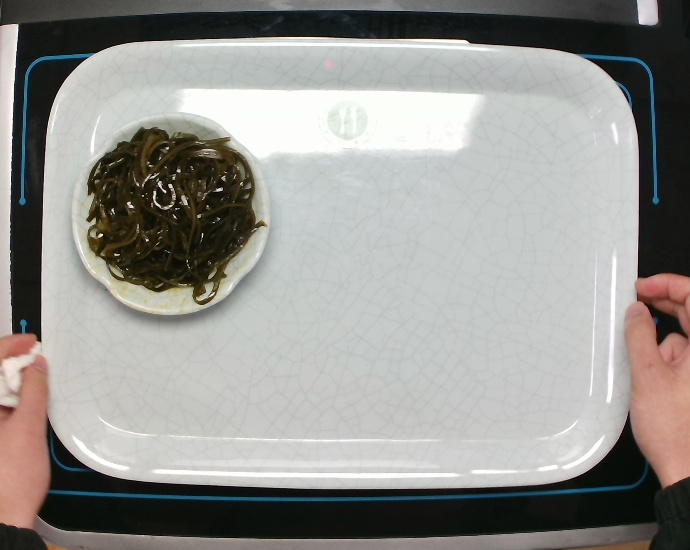JYsf-Ao_Yuan_Wan: (68, 108, 274, 317)
